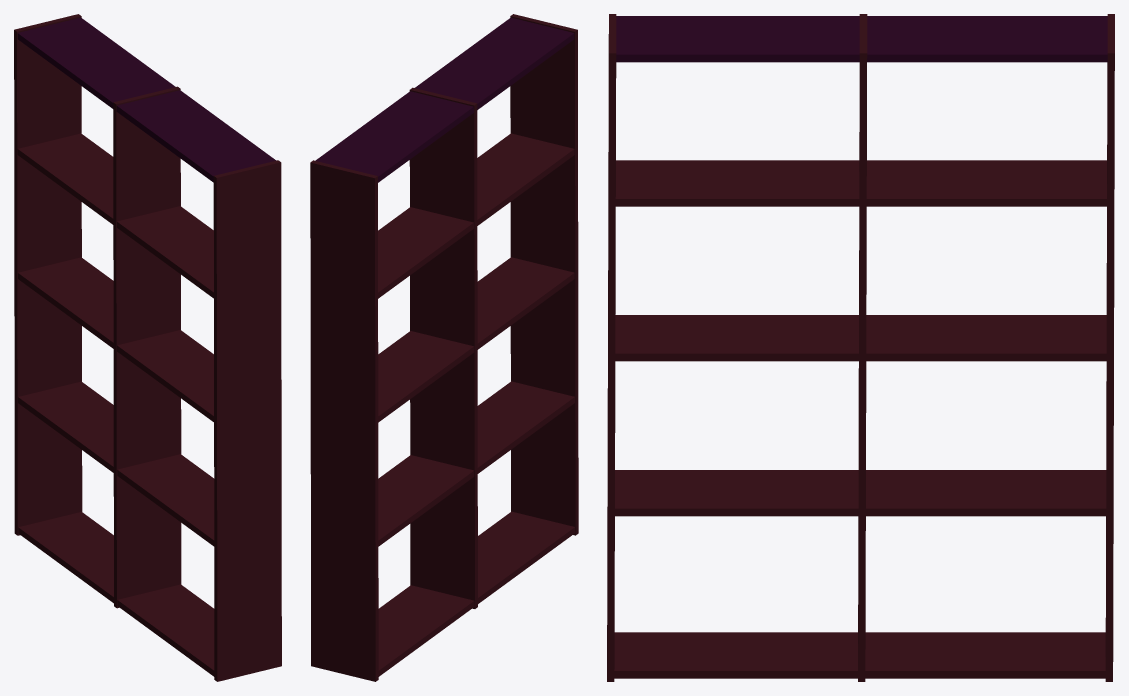
File: Kitaplık.fbx
3 views of the same model, side by side, from view 1: azimuth 30°, elevation 25°; view 2: azimuth 150°, elevation 25°; view 3: azimuth 270°, elevation 25° (orthographic). The views are drawn at different scales.
Visible parts, largest first — view 1: Cube.004; view 2: Cube.004; view 3: Cube.004.
Part boxes in pixels (x1,y1,x2,y2): Cube.004: [14, 14, 281, 681]; Cube.004: [310, 14, 578, 681]; Cube.004: [607, 14, 1114, 681].
Bounding box in the file's own units: 203 × 1515 × 1109.
